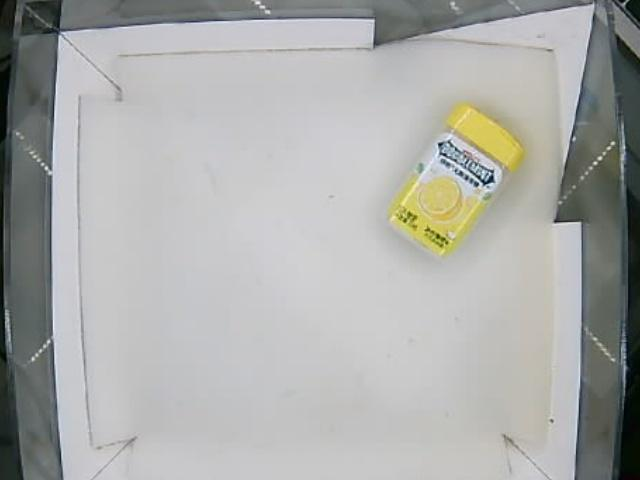Bottle: (380, 104, 526, 264)
